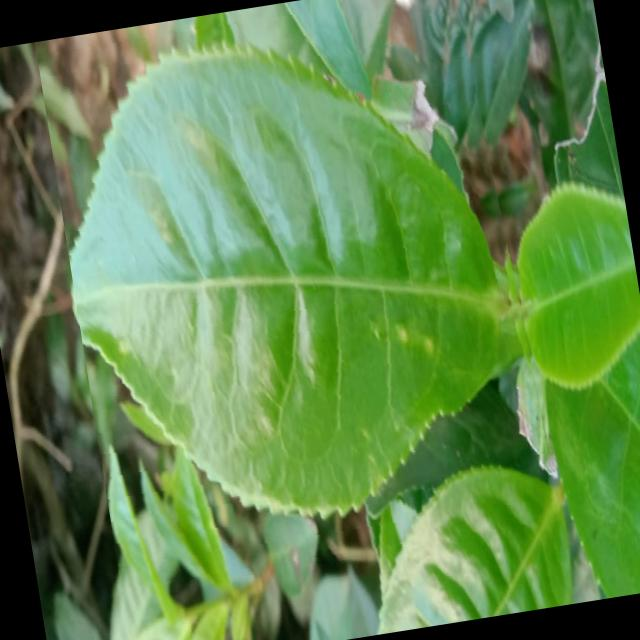Category B(2-4 days): (35, 0, 566, 599)
